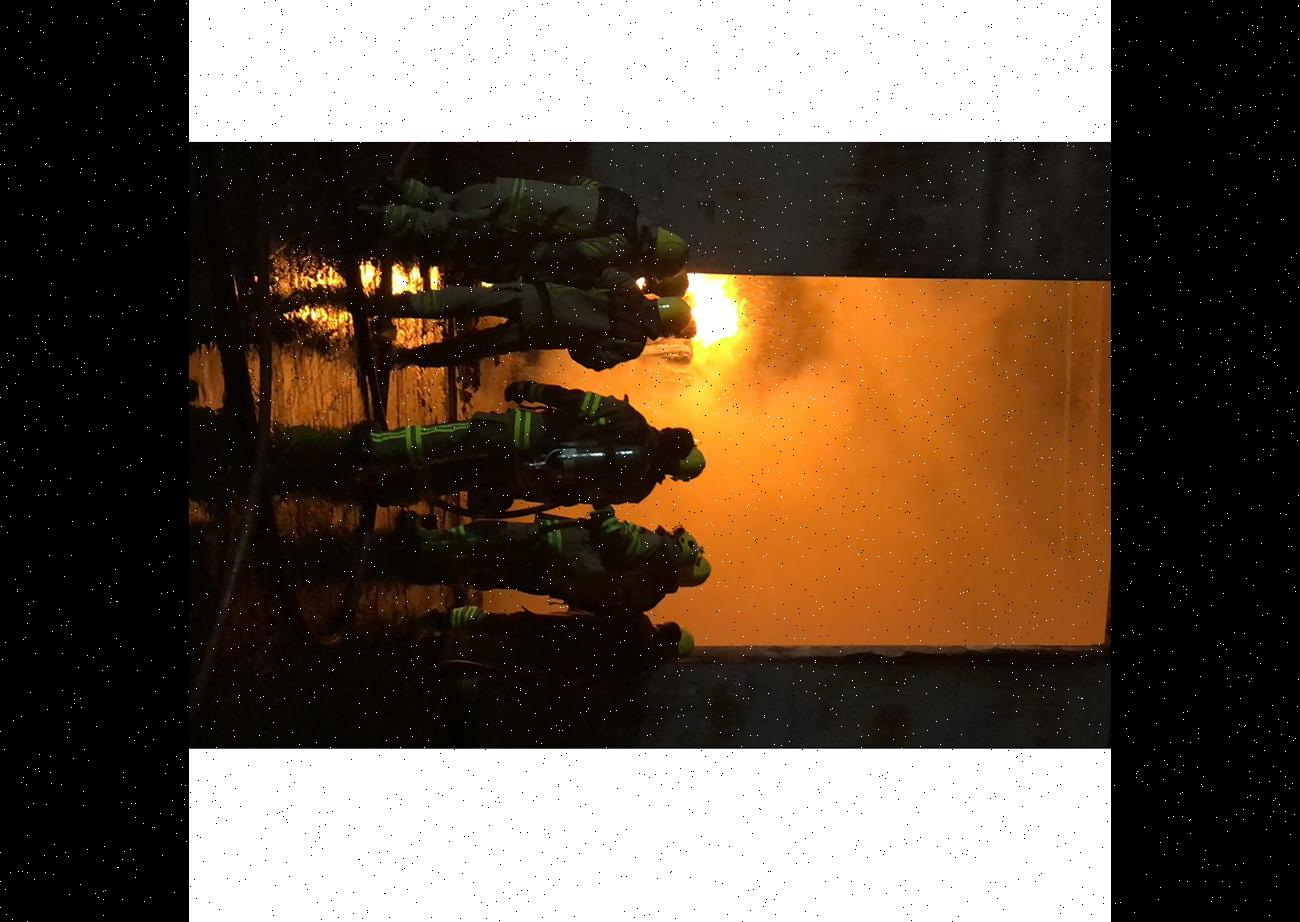fire: (678, 301, 775, 411)
